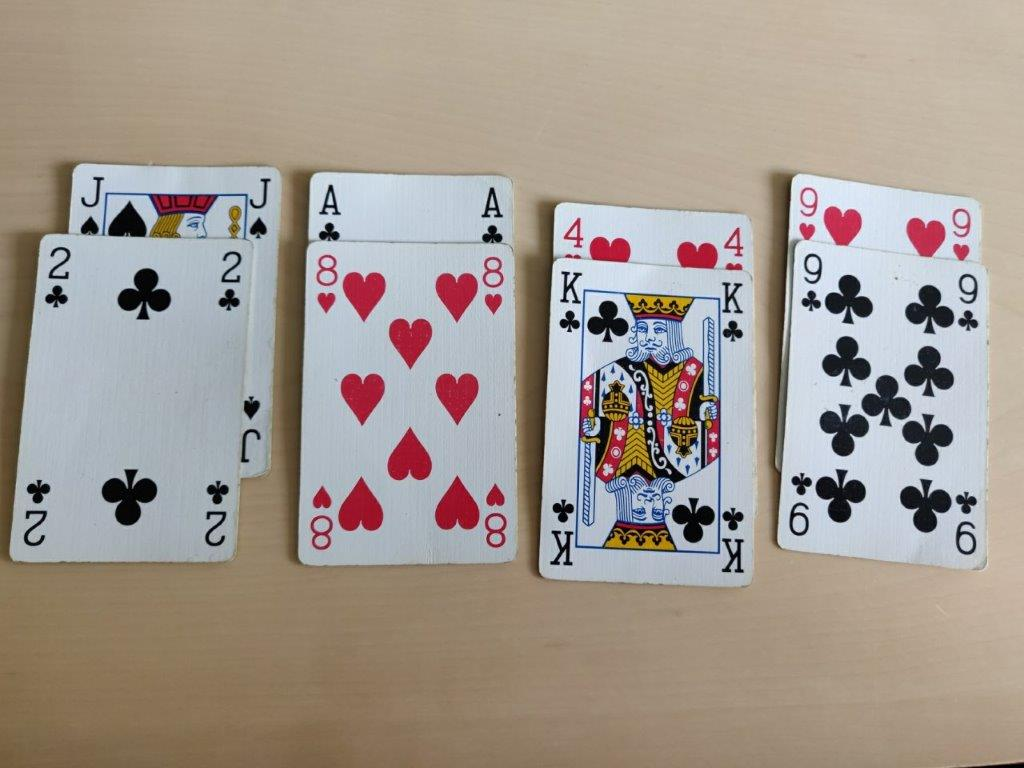2C: (42, 240, 78, 314), (210, 246, 246, 320)
4H: (722, 218, 752, 275), (558, 210, 588, 266)
8H: (310, 247, 339, 316), (480, 253, 509, 322)
9C: (798, 248, 823, 315), (954, 272, 979, 339)
9H: (797, 179, 820, 243), (949, 200, 972, 264)
AC: (314, 180, 347, 244), (476, 183, 509, 247)
JS: (75, 168, 106, 241), (243, 170, 274, 243)
KC: (555, 267, 582, 335), (720, 279, 747, 347)
